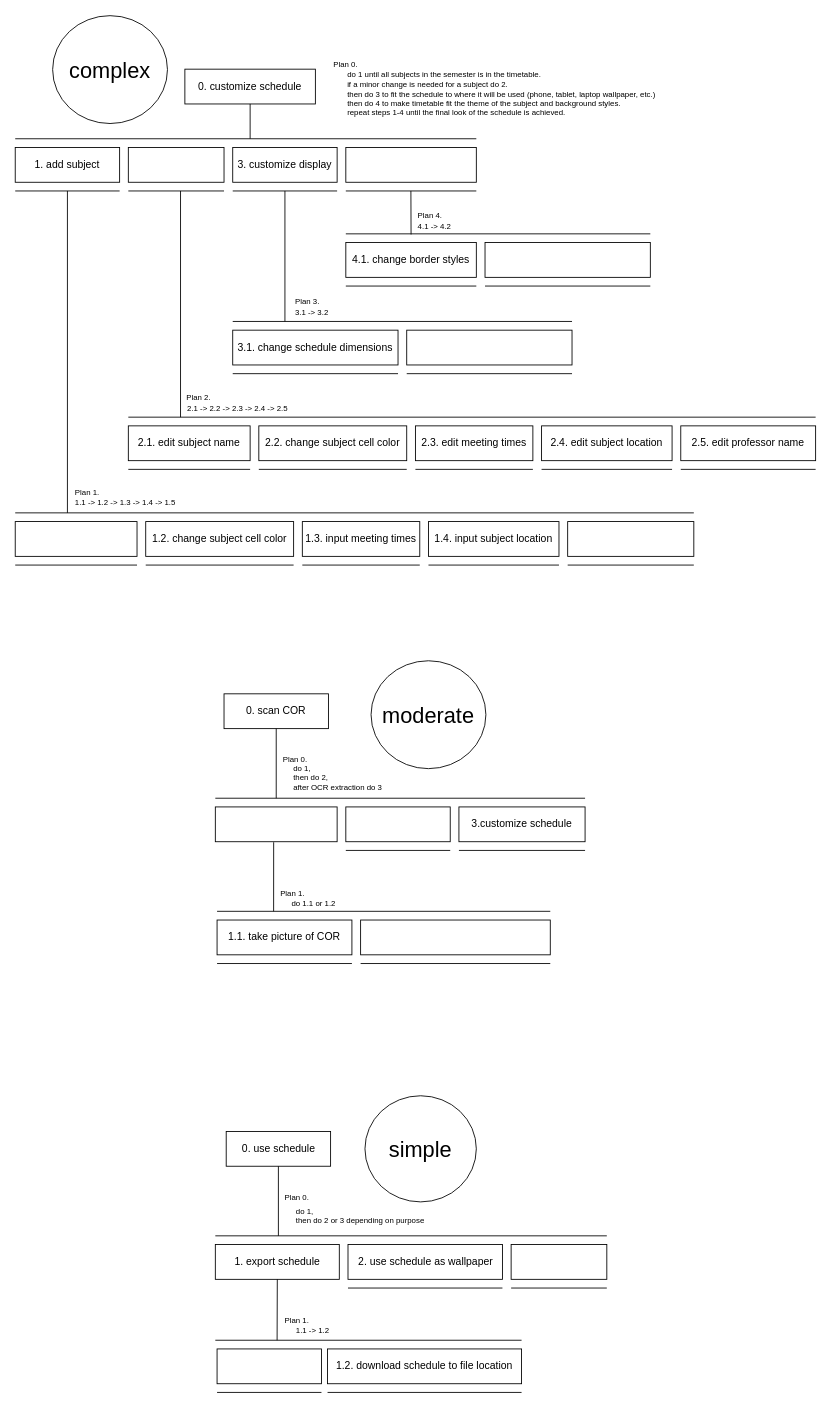
The diagram is 832 pixels wide and 1409 high, and some of its shapes have lost their labels. Here are the shapes that lost their labels. From the top down, the box of each, then its label:
(127, 147, 224, 182): 2. edit subject
(345, 147, 476, 182): 4. customize timetable
(484, 242, 650, 277): 4.2. change timetable margins
(406, 329, 572, 365): 3.2. change background image
(14, 521, 137, 556): 1.1. input subject name
(567, 521, 694, 556): 1.5. input professor name
(214, 806, 337, 842): 1. get COR
(345, 806, 450, 842): 2. upload COR file
(360, 919, 550, 955): 1.1. get PDF of COR from iBU website
(510, 1244, 607, 1279): 3.print schedule
(216, 1348, 321, 1384): 1.1. choose file type
